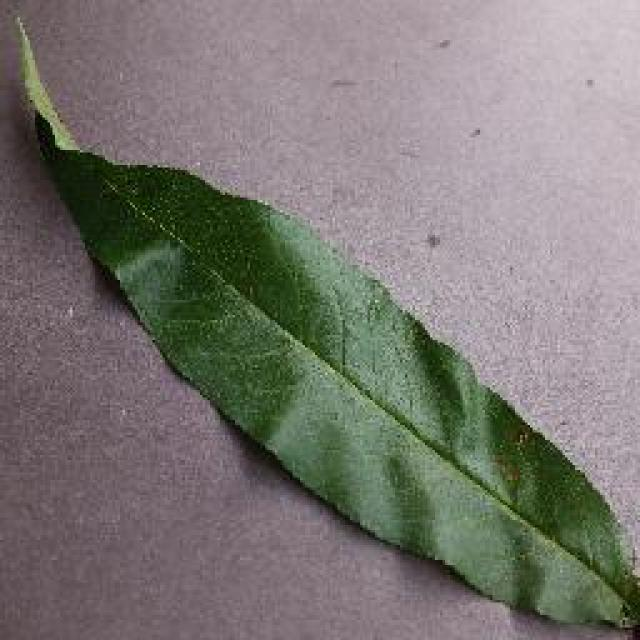Peach_Bacterial_Spot: (72, 152, 202, 250)
